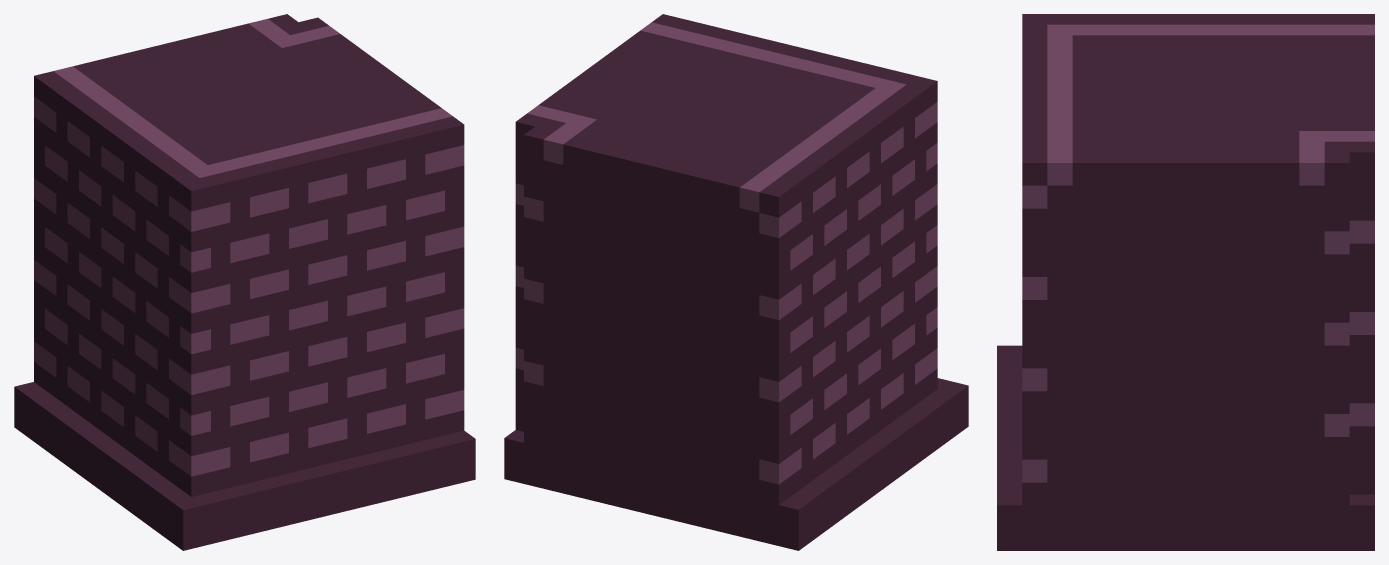
File: dungeon_c_a_inner_wall_corner_b.obj
3 views of the same model, side by side, from view 1: azimuth 30°, elevation 25°; view 2: azimuth 150°, elevation 25°; view 3: azimuth 270°, elevation 25° (orthographic). The views are drawn at different scales.
Size of the model in its own units: 1.5 by 1.7 by 1.5.
1 material, 1 textured.
